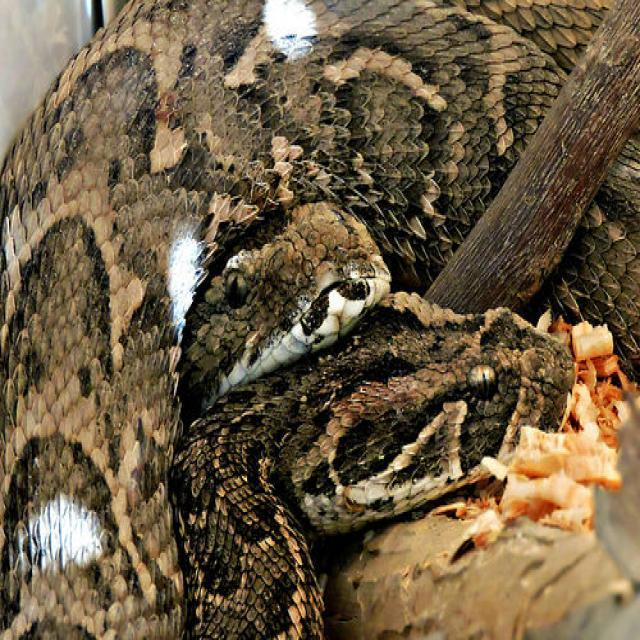Snake: (4, 6, 640, 626)
